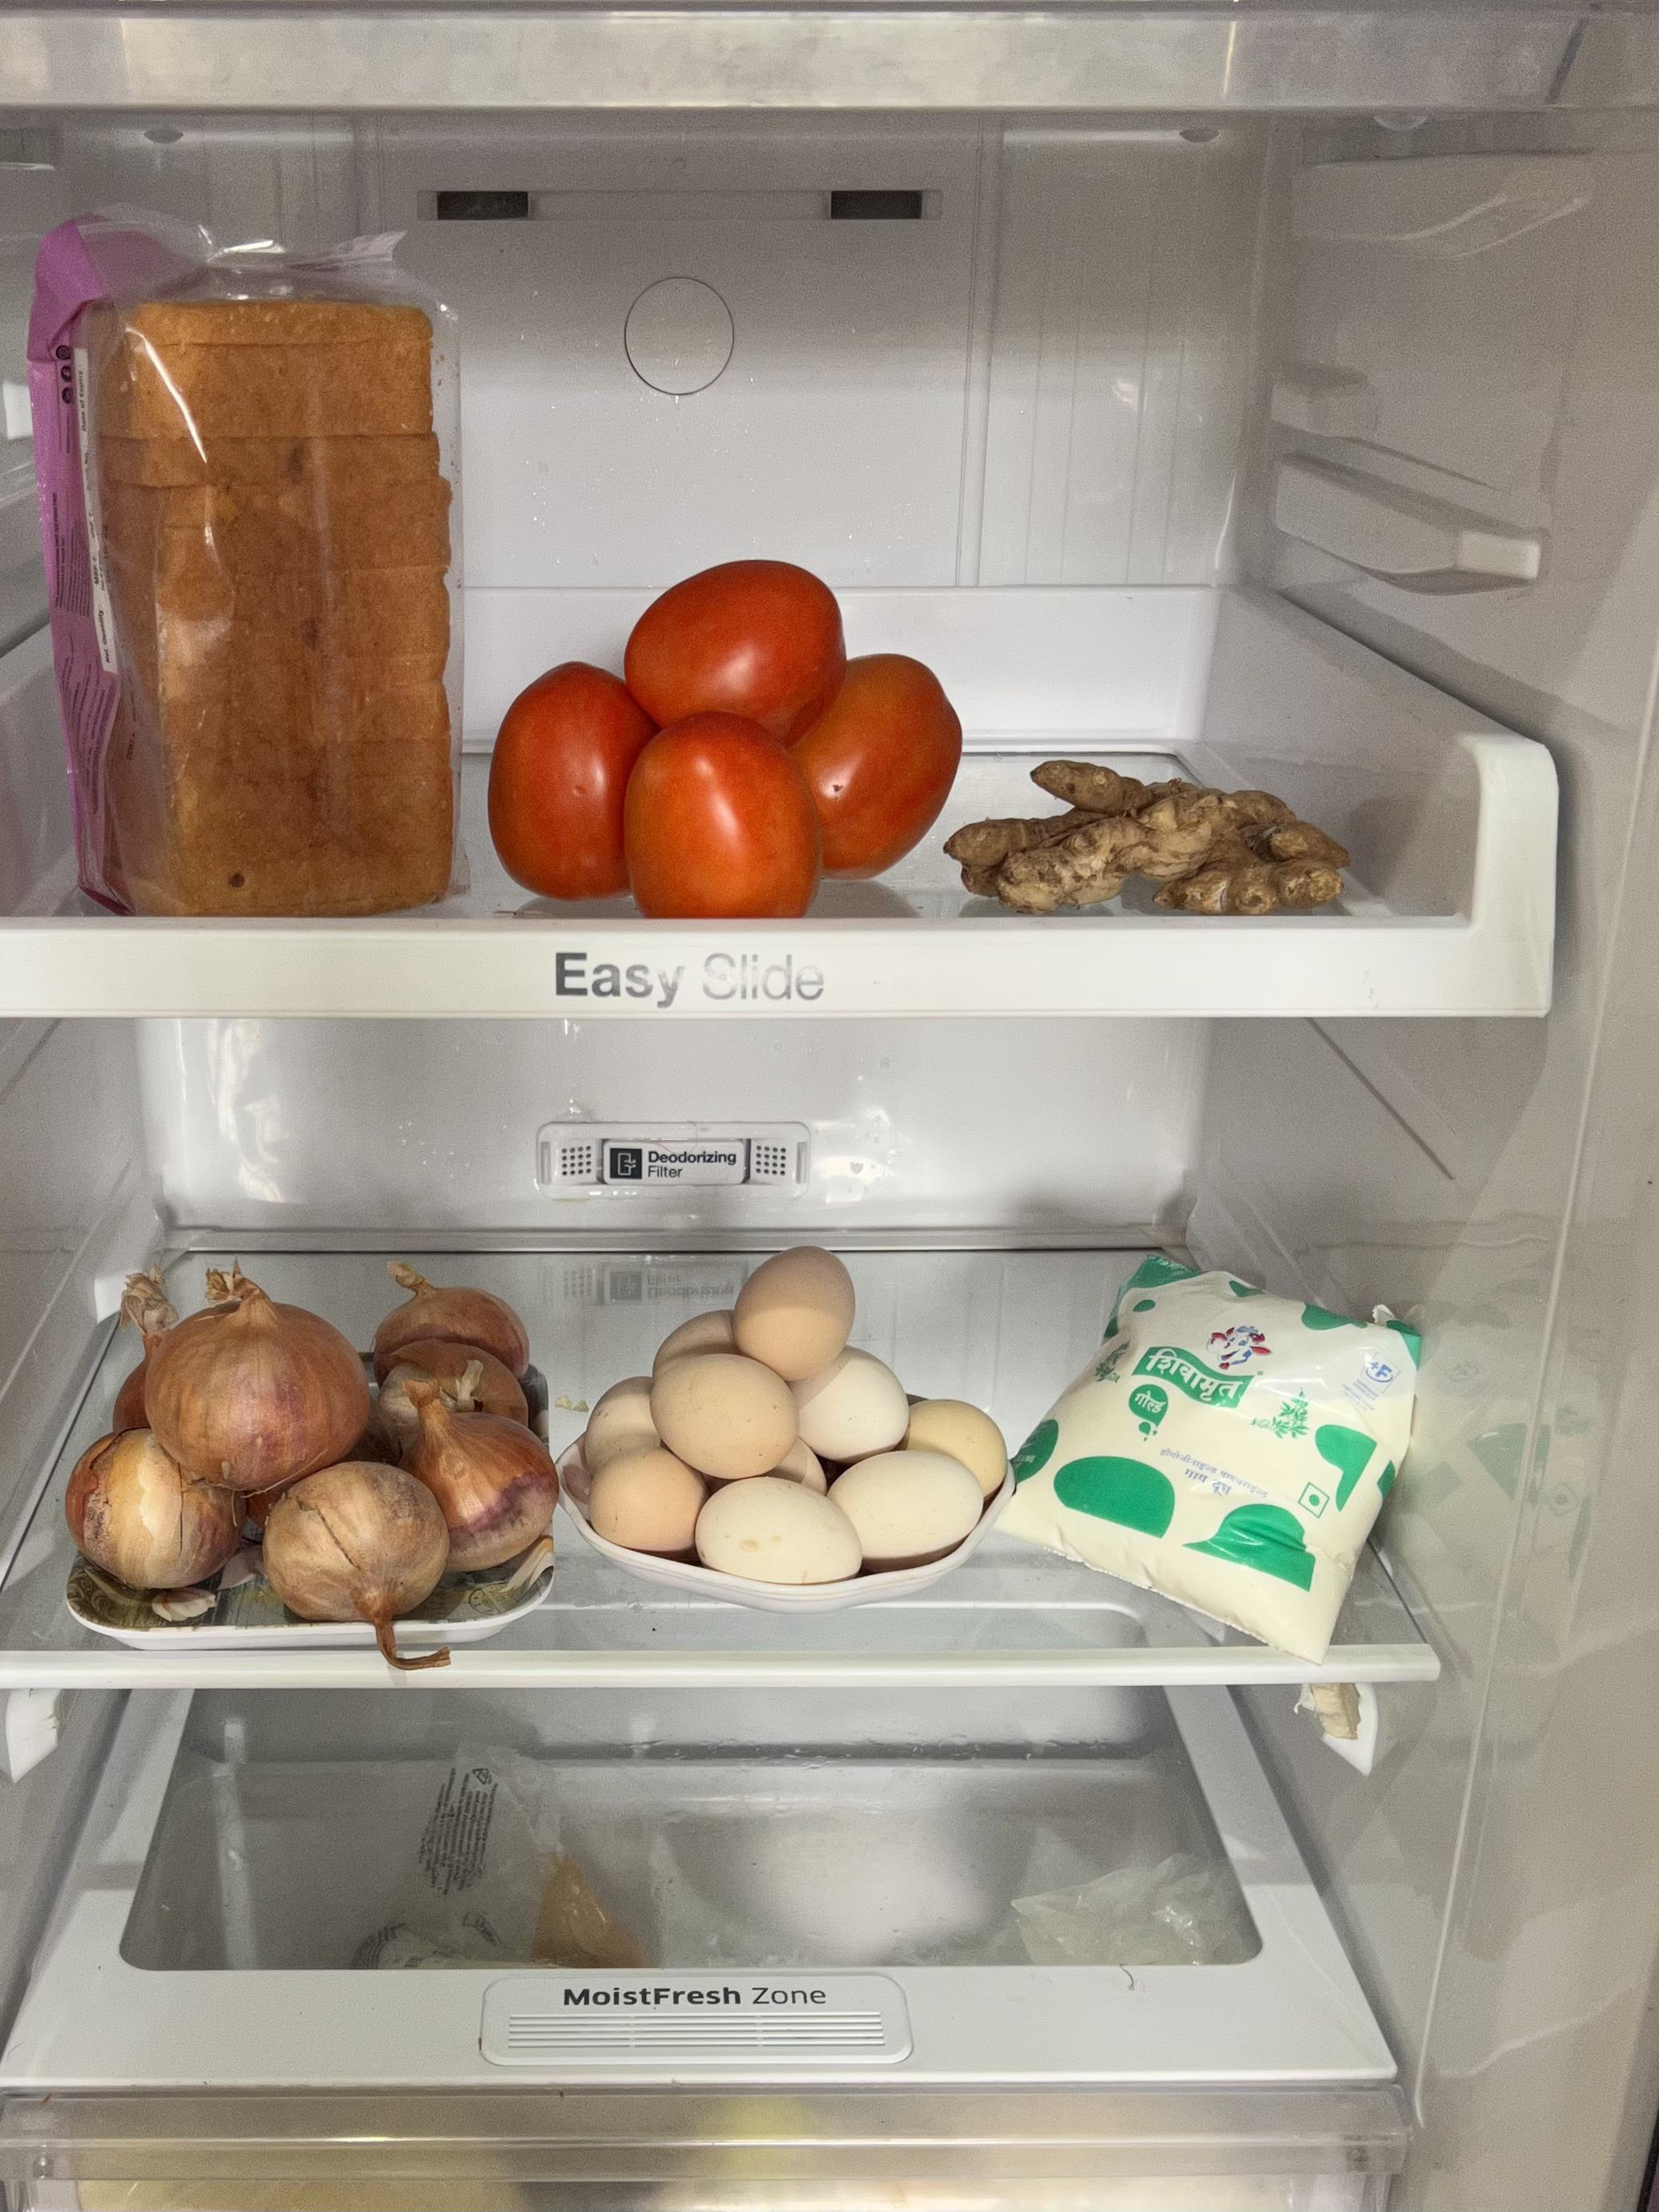bread: (23, 206, 467, 925)
egg: (580, 1247, 1006, 1588)
ginger: (978, 751, 1359, 907)
milk: (1026, 1244, 1413, 1635)
onion: (66, 1252, 556, 1634)
tomato: (491, 549, 958, 916)
